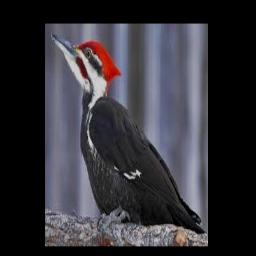Woodpecker: (50, 32, 206, 235)
